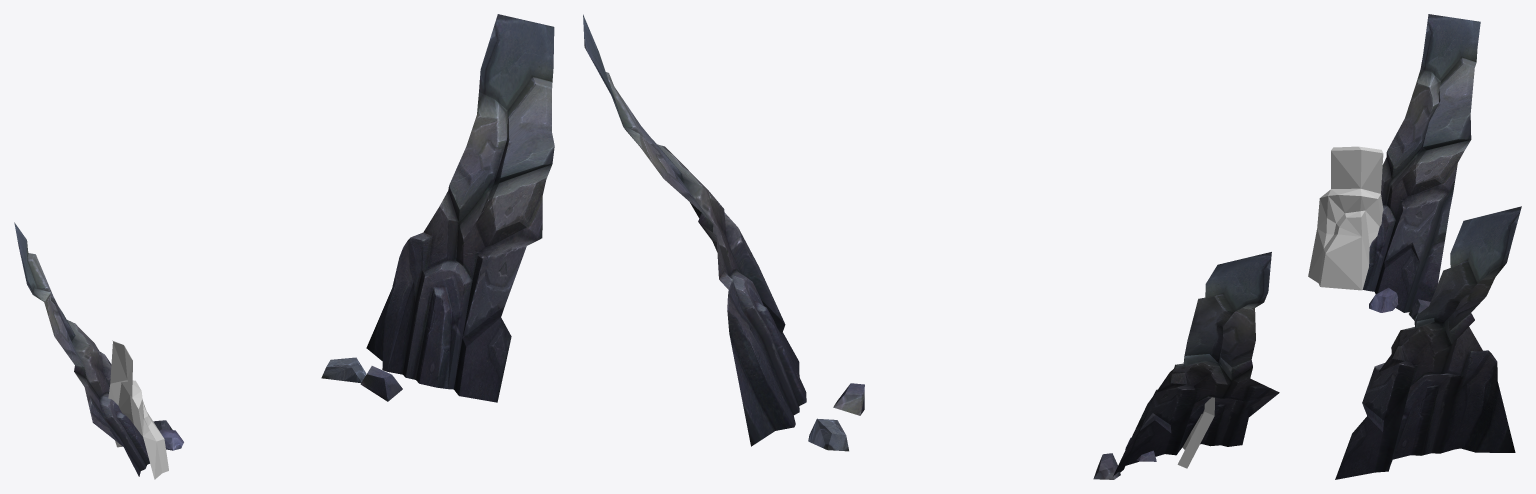
The model's file is dl_qian_jing_001.FBX.
3 renders of one model, left to right at view 1: azimuth 30°, elevation 25°; view 2: azimuth 150°, elevation 25°; view 3: azimuth 270°, elevation 25°, orthographic. The views are drawn at different scales.
Parts seen in each view (by area): view 1: polySurface5812, Object001; view 2: polySurface5812, Object001; view 3: polySurface5812, Object001.
Part boxes in pixels (x1=…): polySurface5812: x1=14, y1=14, x2=554, y2=476; Object001: x1=108, y1=340, x2=168, y2=479; polySurface5812: x1=583, y1=14, x2=1279, y2=479; Object001: x1=1177, y1=397, x2=1214, y2=468; polySurface5812: x1=1335, y1=14, x2=1521, y2=479; Object001: x1=1308, y1=146, x2=1383, y2=290.
Bounding box in the file's own units: 64.09 × 33.85 × 20.34.
